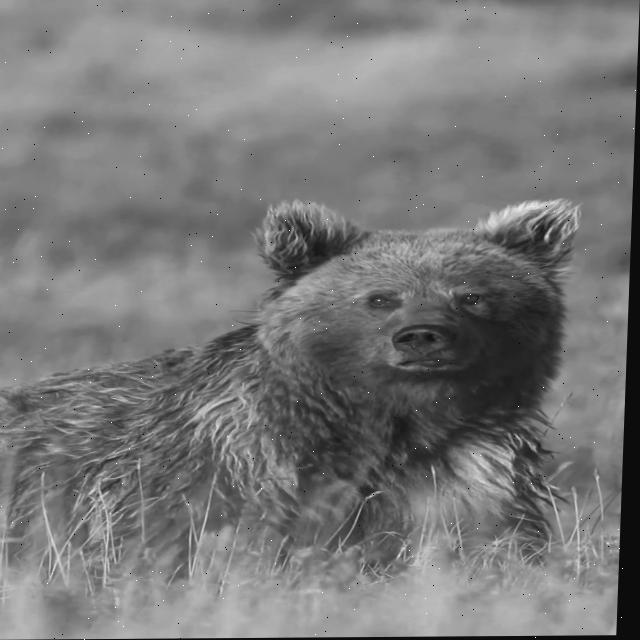Bear: (0, 196, 584, 598)
